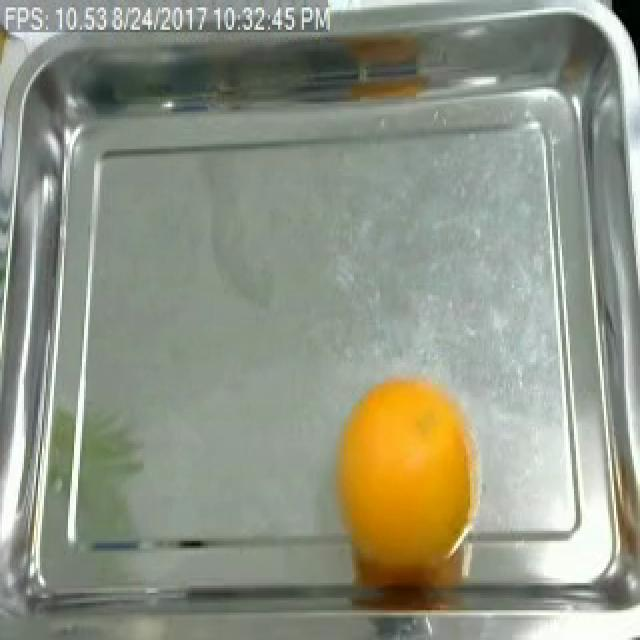Fruit: (320, 370, 490, 605)
